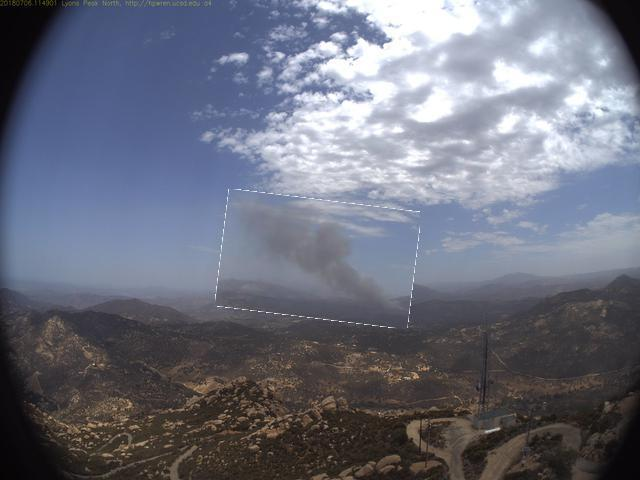smoke: (219, 196, 419, 325)
